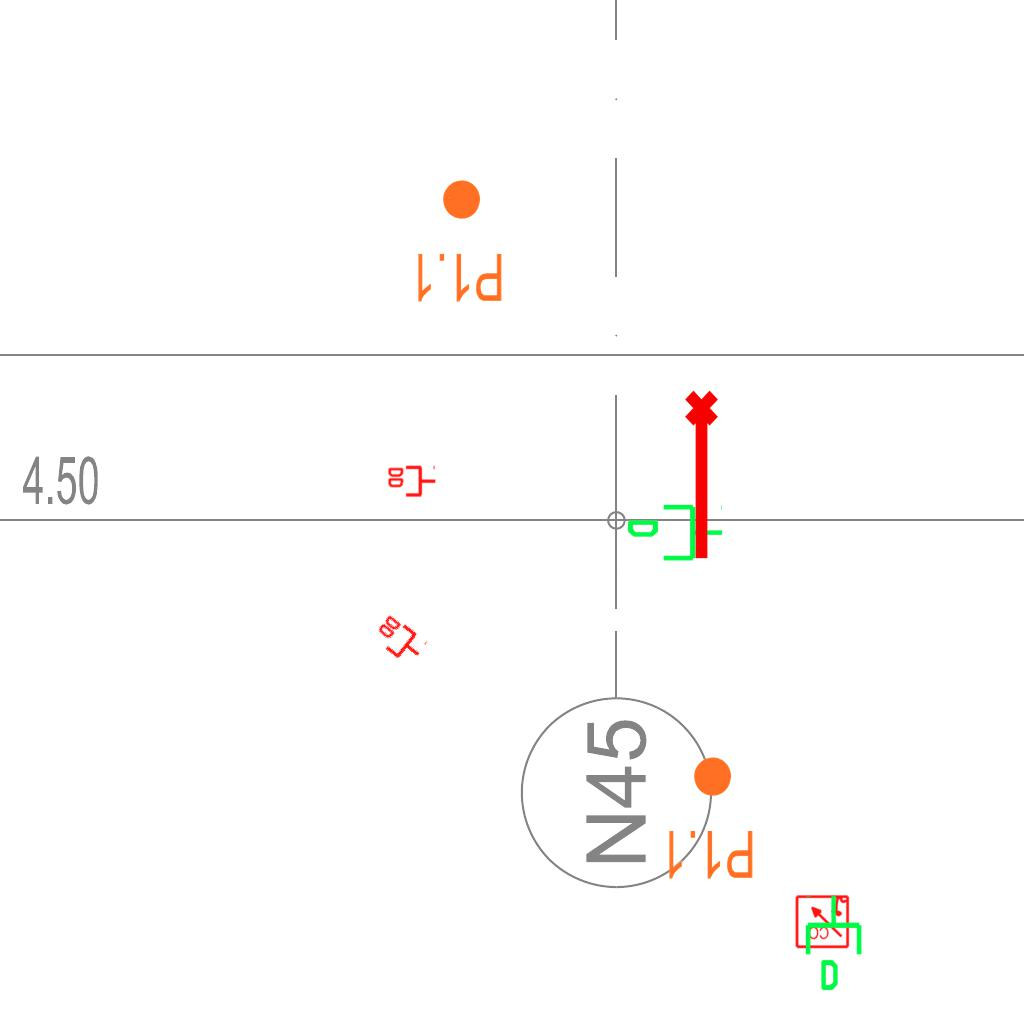ASR_Ansaugoeffnung: (681, 388, 727, 564)
Datenanschluss_einfach: (625, 500, 725, 569), (801, 893, 870, 993)
Datenanschluss_zweifach: (368, 611, 430, 670), (386, 465, 437, 499)
Downlight_LED_Einbauleuchten_Flur: (663, 754, 756, 882), (412, 177, 505, 305)
ROA_Rauchmelder_optisch_mit_Signalgeber_(Sockelsirene): (794, 893, 850, 949)
